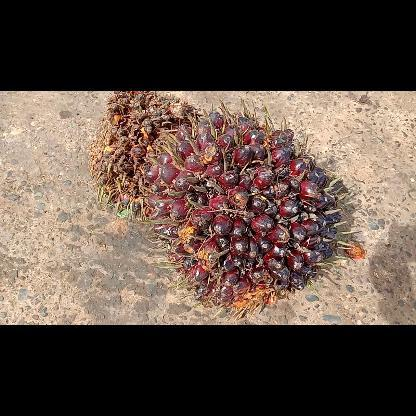Kurang masak: (141, 100, 355, 320)
TBS abnormal: (89, 91, 206, 225)
